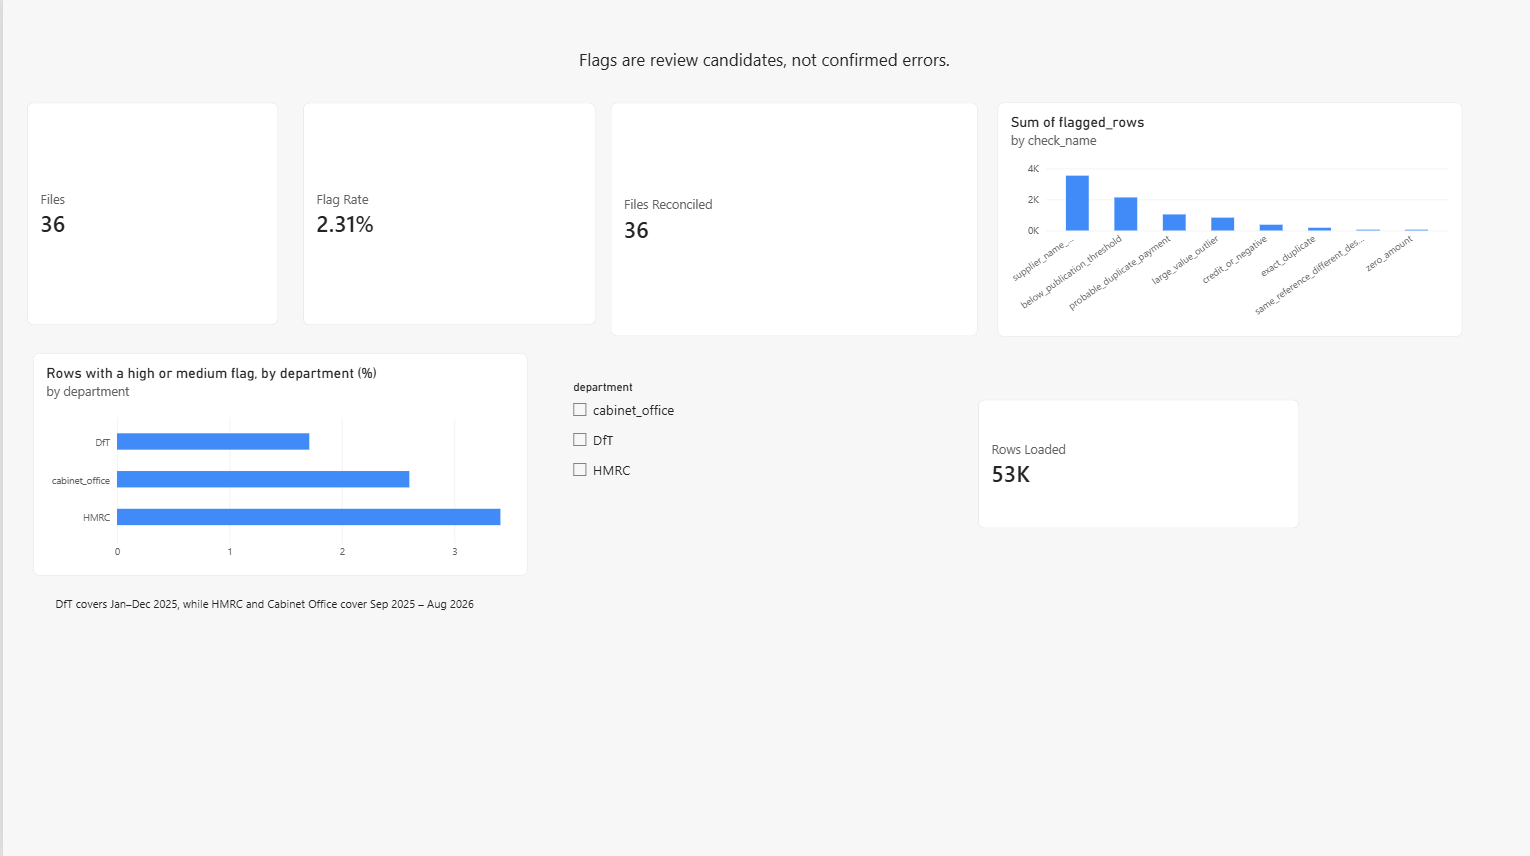

The dashboard page shown, as its layout file describes it:
{"tool":"powerbi","page":{"name":"Data quality overview","canvas":[1920,1080],"ordinal":0},"visuals":[{"type":"cardVisual","fields":{"Data":["reconciliation.Files"]},"box":[30.2,130.2,316,280],"z":0},{"type":"cardVisual","fields":{"Data":["reconciliation.Flag Rate"]},"box":[377.4,130.2,368,280],"z":1000},{"type":"slicer","fields":{"Values":["Departments.department"]},"box":[709.4,479.2,442,210],"z":2000},{"type":"clusteredBarChart","fields":{"Category":["department_quality.department"],"Y":["Sum(department_quality.pct_rows_high_or_medium_flag)"]},"box":[37.7,445.3,622,280],"z":3000},{"type":"textbox","box":[724.5,60.4,469.8,35.8],"z":4000},{"type":"cardVisual","fields":{"Data":["reconciliation.Files Reconciled"]},"box":[764.2,130.2,462.3,294.3],"z":5000},{"type":"cardVisual","fields":{"Data":["reconciliation.Rows Loaded"]},"box":[1226.4,503.8,404,162],"z":6000},{"type":"clusteredColumnChart","fields":{"Category":["flag_summary.check_name"],"Y":["Sum(flag_summary.flagged_rows)"]},"box":[1250.9,130.2,584.9,294.3],"z":7000},{"type":"textbox","box":[62.3,750.9,567.9,30.2],"z":8000}]}

Visuals, with their boxes in screenshot pixels (x1, y1, x2, y2), scaled from the page's 1920x1080 canvas onto the 1530x856 screenshot:
cardVisual - reconciliation.Files: 24/103/276/325
cardVisual - reconciliation.Flag Rate: 301/103/594/325
slicer - Departments.department: 565/380/918/546
clusteredBarChart - department_quality.department x Sum(department_quality.pct_rows_high_or_medium_flag): 30/353/526/575
textbox: 577/48/952/76
cardVisual - reconciliation.Files Reconciled: 609/103/977/336
cardVisual - reconciliation.Rows Loaded: 977/399/1299/528
clusteredColumnChart - flag_summary.check_name x Sum(flag_summary.flagged_rows): 997/103/1463/336
textbox: 50/595/502/619
